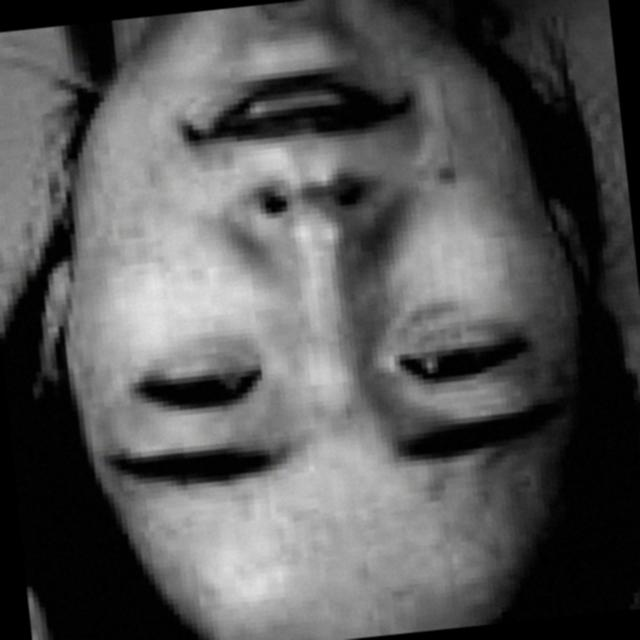sad: (36, 0, 610, 579)
